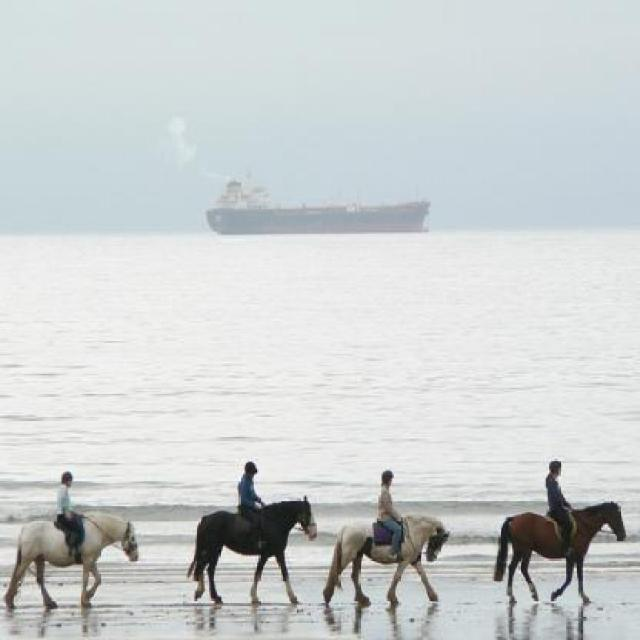ship: (203, 173, 437, 233)
